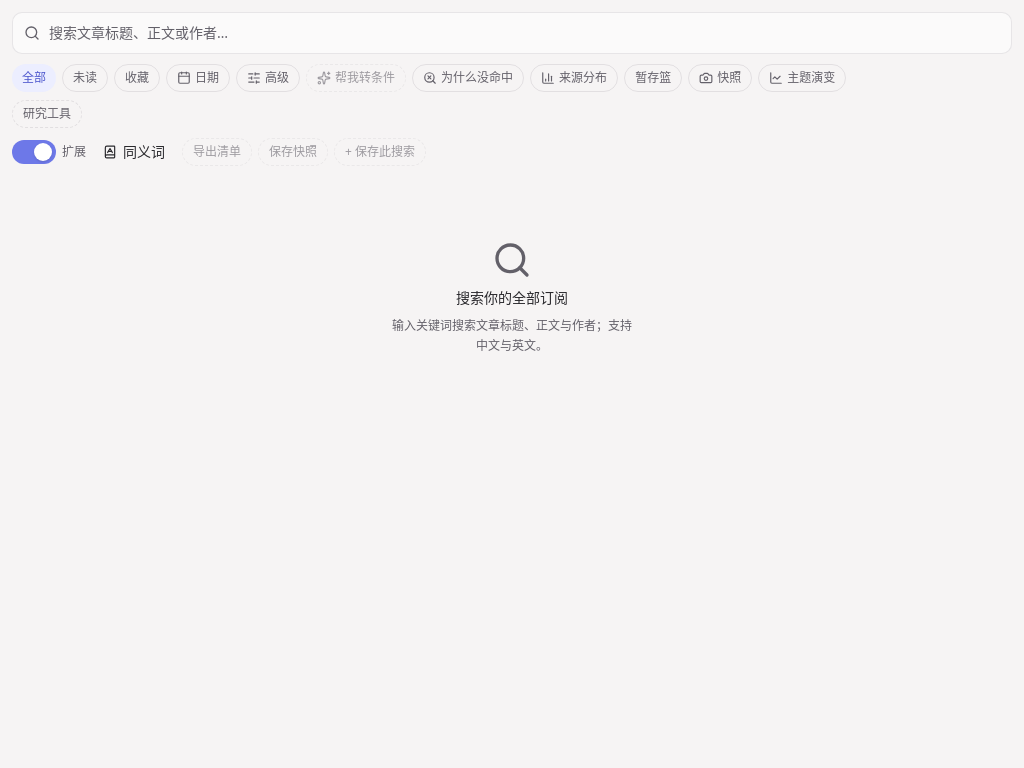
Scenario: N141 搜索快照（SearchPage） › 保存快照 → POST 同参快照；面板列出快照并可比较差分
Type "rust" into the search field labelled "搜索" at (512, 33), box [12,12,1012,54]
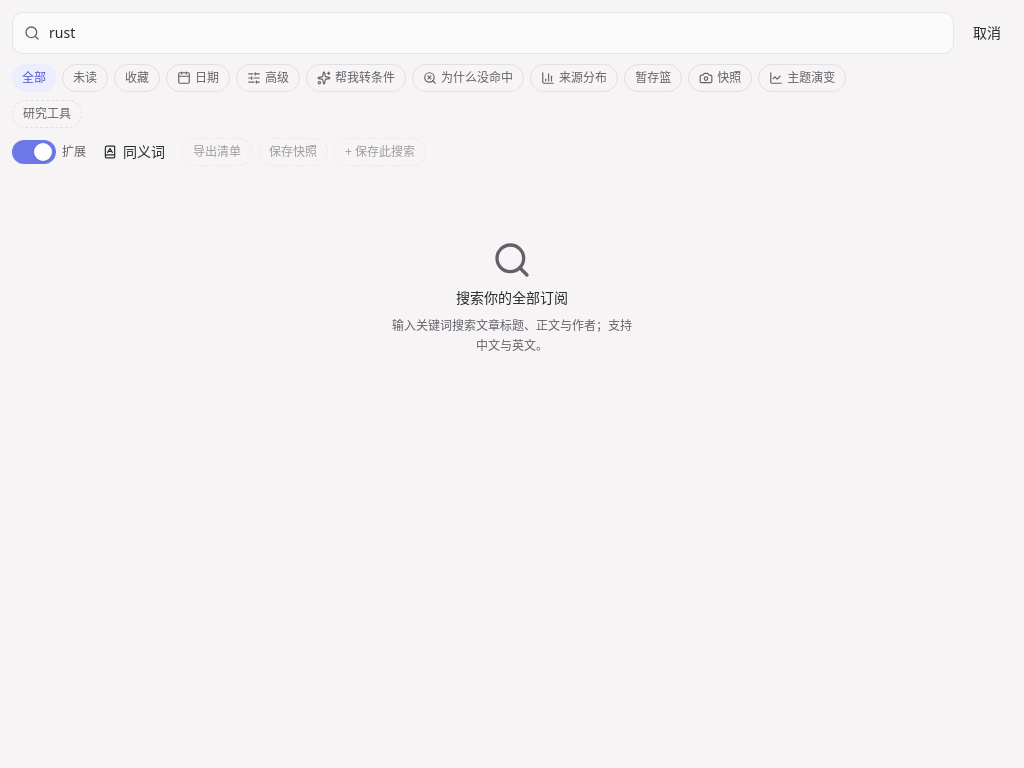
Press Enter in the search field named "搜索", box [12,12,954,54]
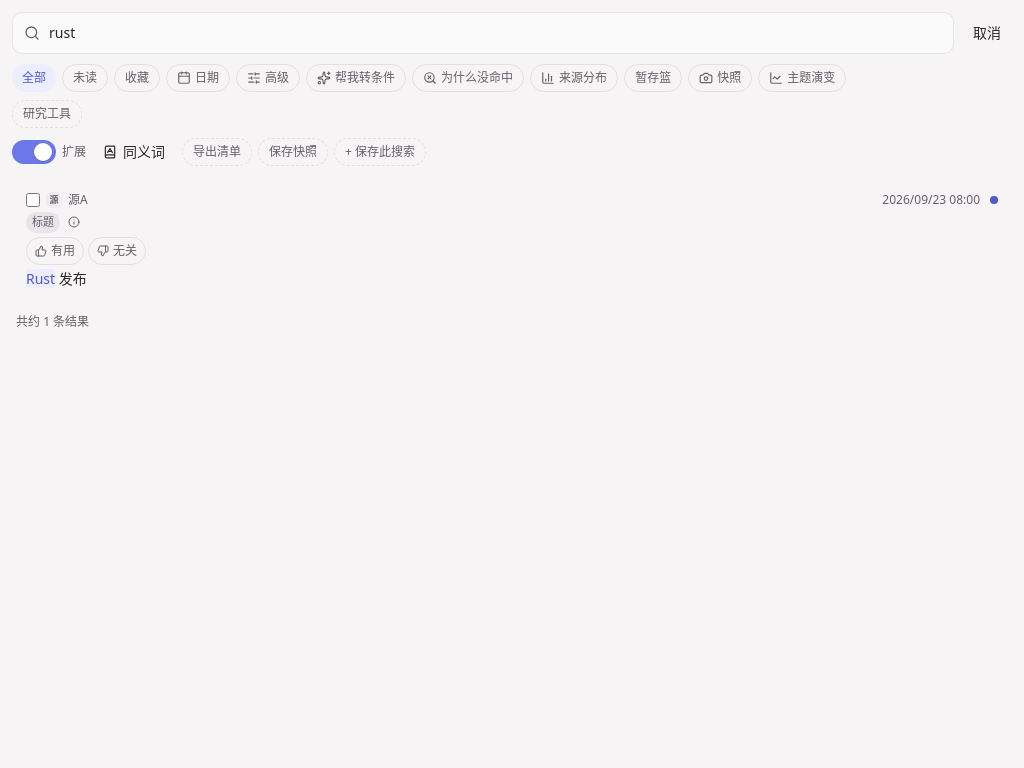
Click the button with test id "snapshot-save" at (293, 152), box [258,138,328,166]
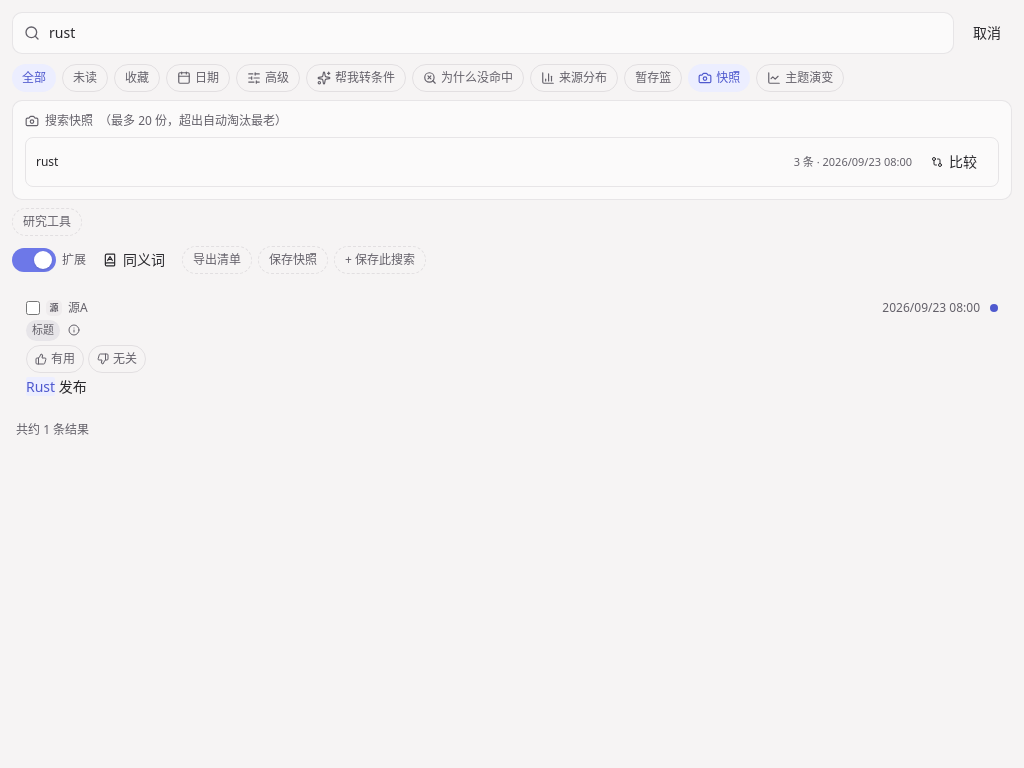
Expected: the element with test id "snapshot-panel" is shown, [12,100,1012,200]
Expected: the list item with test id "snapshot-row" is shown, [25,137,999,187]
Expected: the text "3 条 · 2026/09/23 08:00" is shown, [794,154,912,170]
Click the button with aria-label "比较快照「rust」" at (954, 162), box [920,146,988,178]
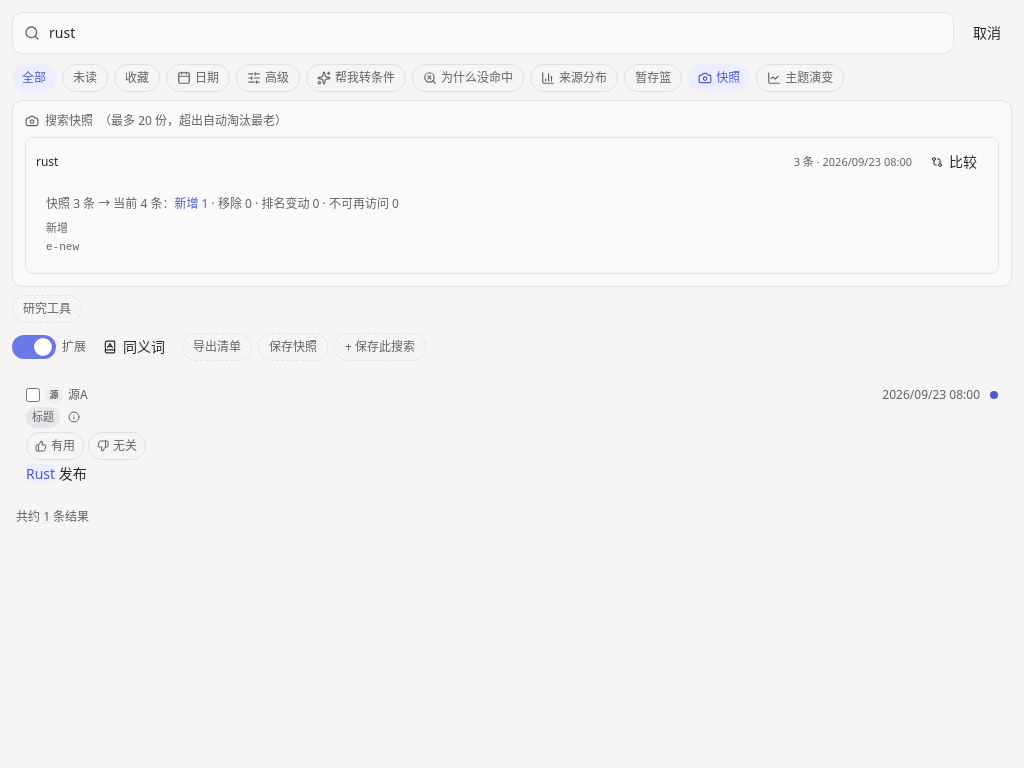
Expected: the element with test id "snapshot-compare" is shown, [36,186,988,265]
Expected: the text "新增 1" is shown, [174,195,208,212]
